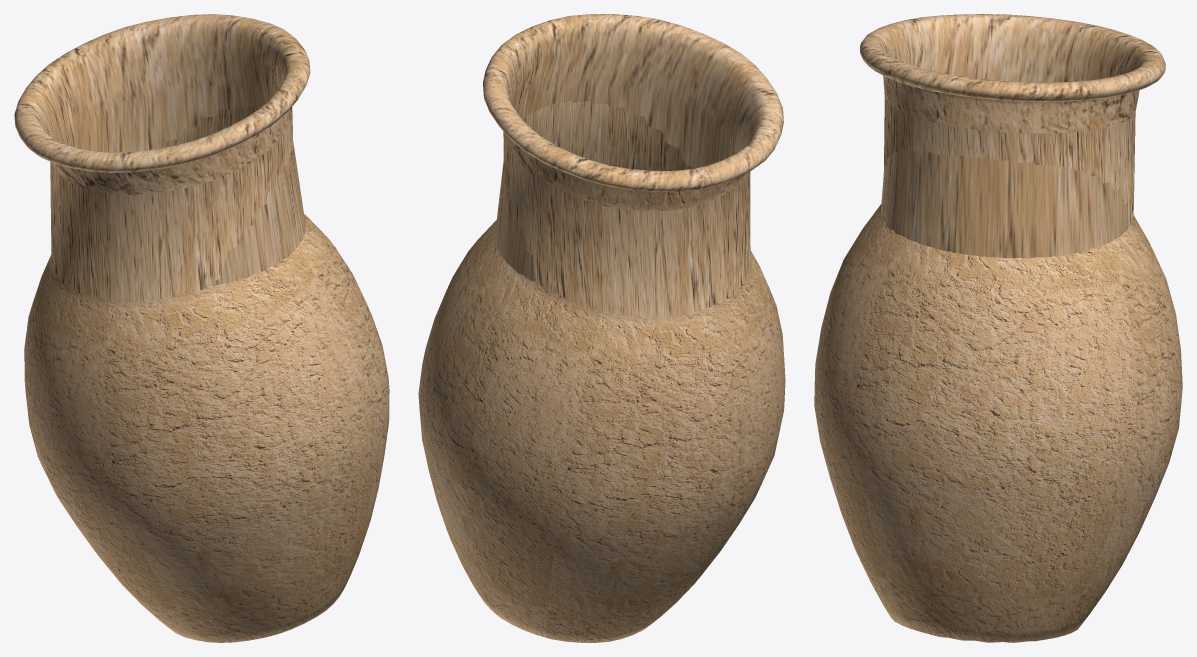
File: gozay_ml_drezh.glb
The picture shows the model from 3 angles, left to right: view 1: azimuth 30°, elevation 25°; view 2: azimuth 150°, elevation 25°; view 3: azimuth 270°, elevation 25°; orthographic projection. The views are drawn at different scales.
Parts seen in each view (by area): view 1: uploads_files_2457244_Ancient+vase; view 2: uploads_files_2457244_Ancient+vase; view 3: uploads_files_2457244_Ancient+vase.
Boxes of the visible parts, x1,y1,x2,y2 form: uploads_files_2457244_Ancient+vase: [14, 14, 389, 642]; uploads_files_2457244_Ancient+vase: [418, 14, 785, 642]; uploads_files_2457244_Ancient+vase: [814, 14, 1182, 642].
Bounding box in the file's own units: 0.5466 × 0.9093 × 0.5271.
1 material, 1 textured.
